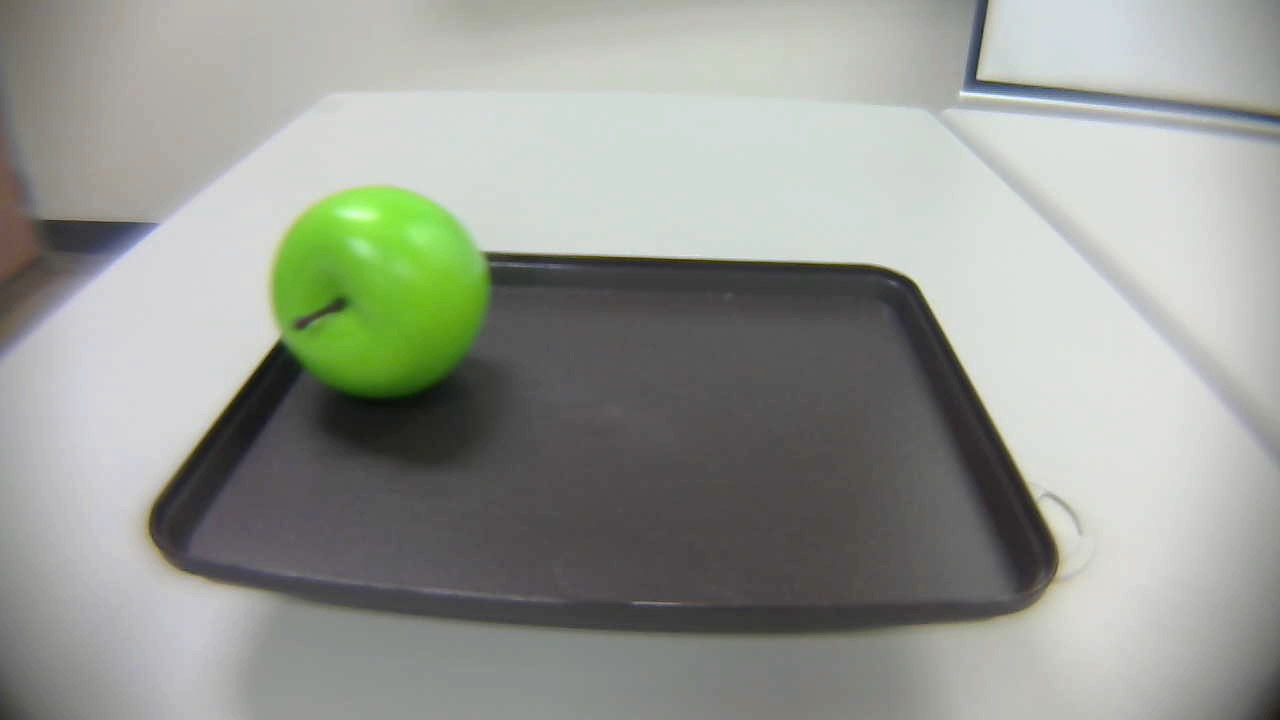green apple: (267, 182, 499, 413)
